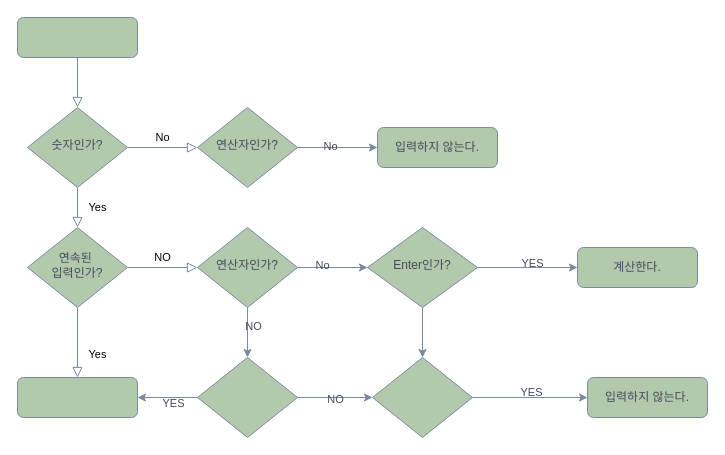
The diagram is 725 pixels wide and 455 high, and some of its shapes have lost their labels. The shapes that lost their labels are listed below. From the top down, each one's centre as x and y in pixels, then its label:
(77,37): 계산기 버튼을 누른다
(77,397): 입력한다.
(247,397): Digit 감지인가?
(422,397): Key 감지인가?
